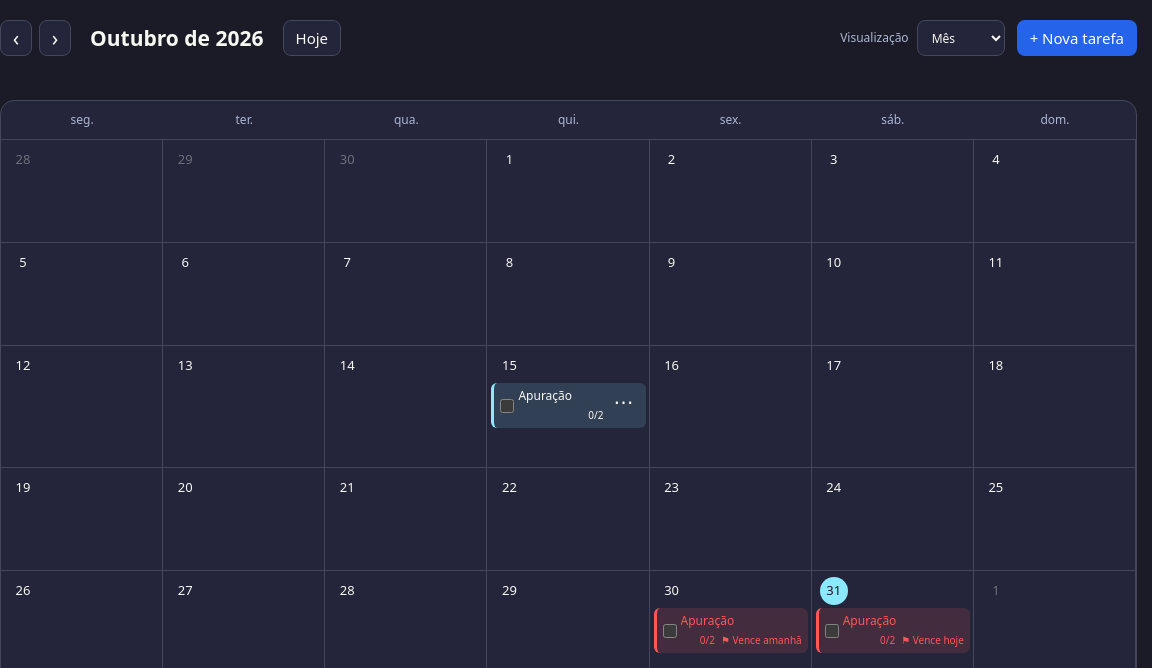
Test: checklist por empresa salva, risca empresa, e não conclui o próximo mês
The width and height of the screenshot is (1152, 668).
Click the button "Apuração 0/2".
click(561, 406)  # box top-left (518, 388), bottom-right (604, 423)
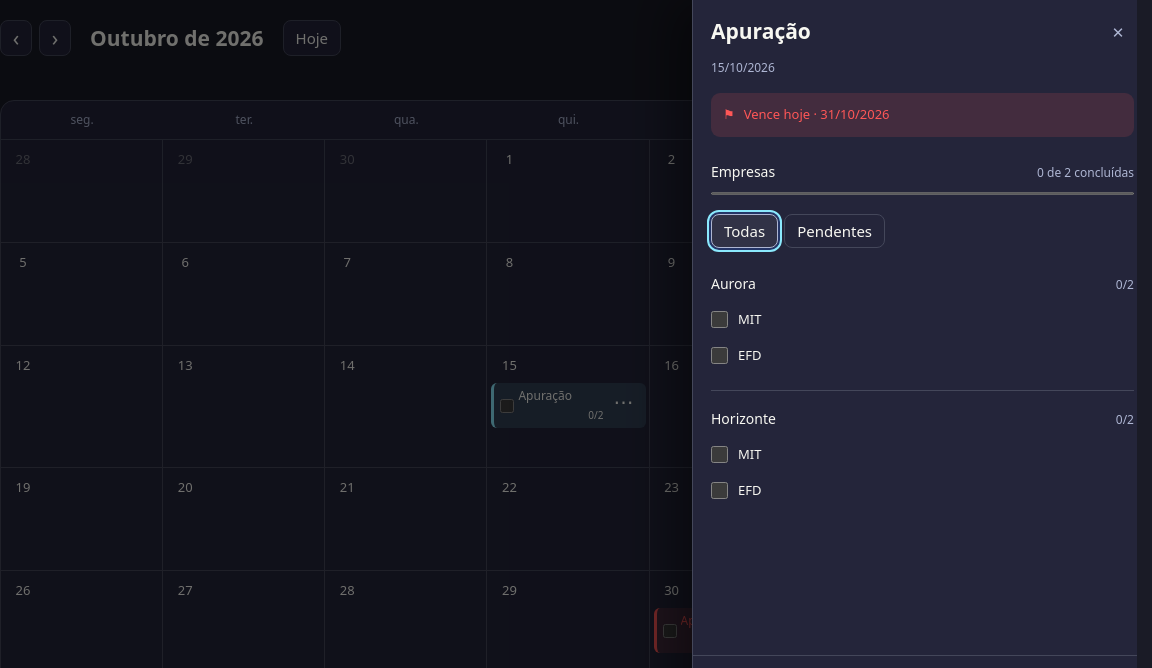
Click the checkbox labelled "MIT" below "Aurora".
click(720, 319)  # box top-left (711, 311), bottom-right (728, 328)
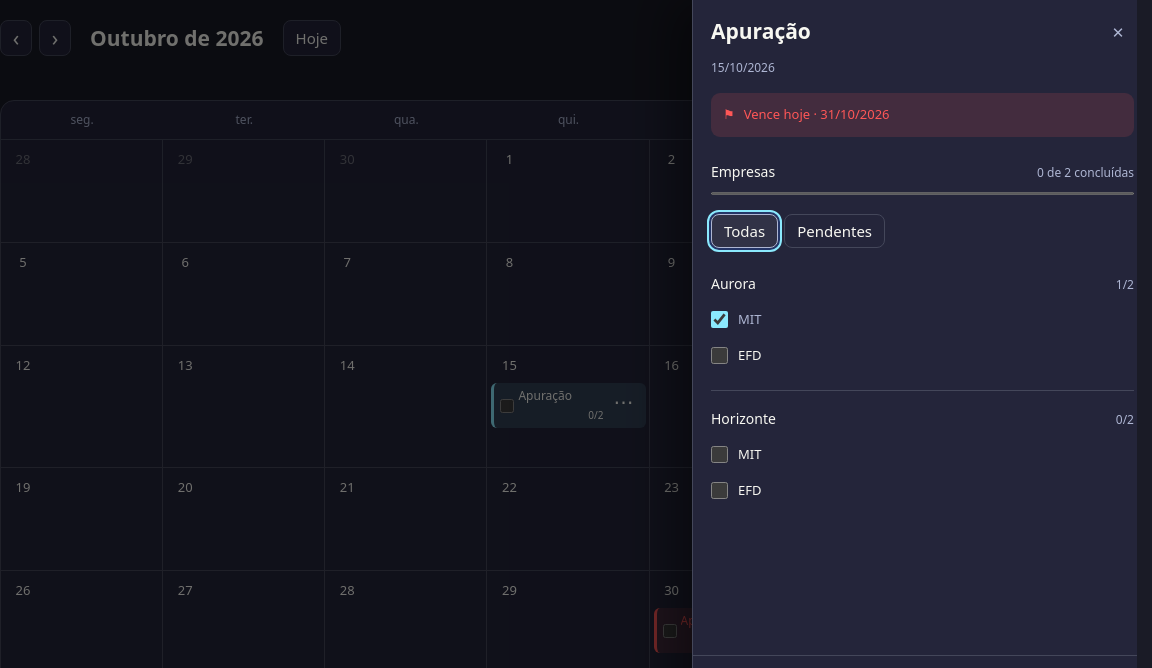
expect the checkbox labelled "MIT" below "Aurora" is enabled: met, box top-left (711, 311), bottom-right (728, 328)
Click the checkbox labelled "EFD" below "Aurora".
click(720, 355)  # box top-left (711, 347), bottom-right (728, 364)
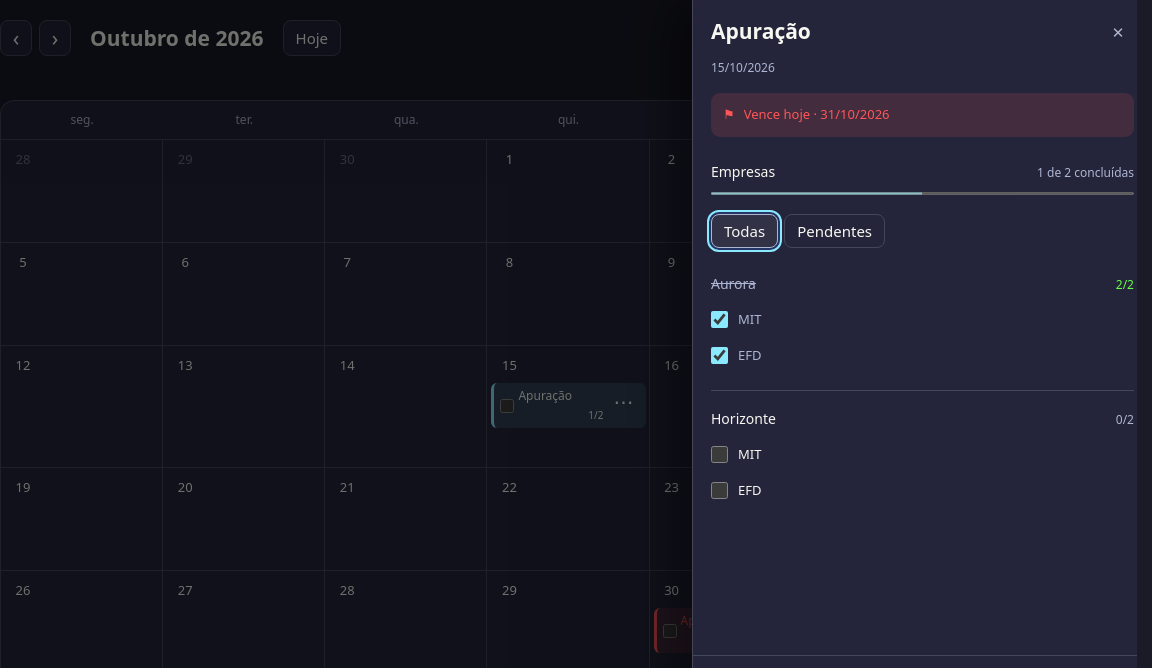
expect the text "1 de 2 concluídas" is shown: met, box top-left (1037, 164), bottom-right (1134, 182)
